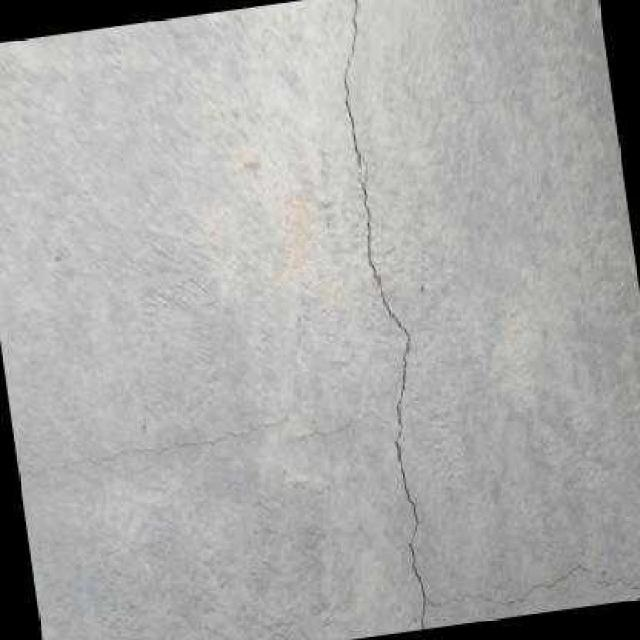D00: (342, 0, 427, 629)
